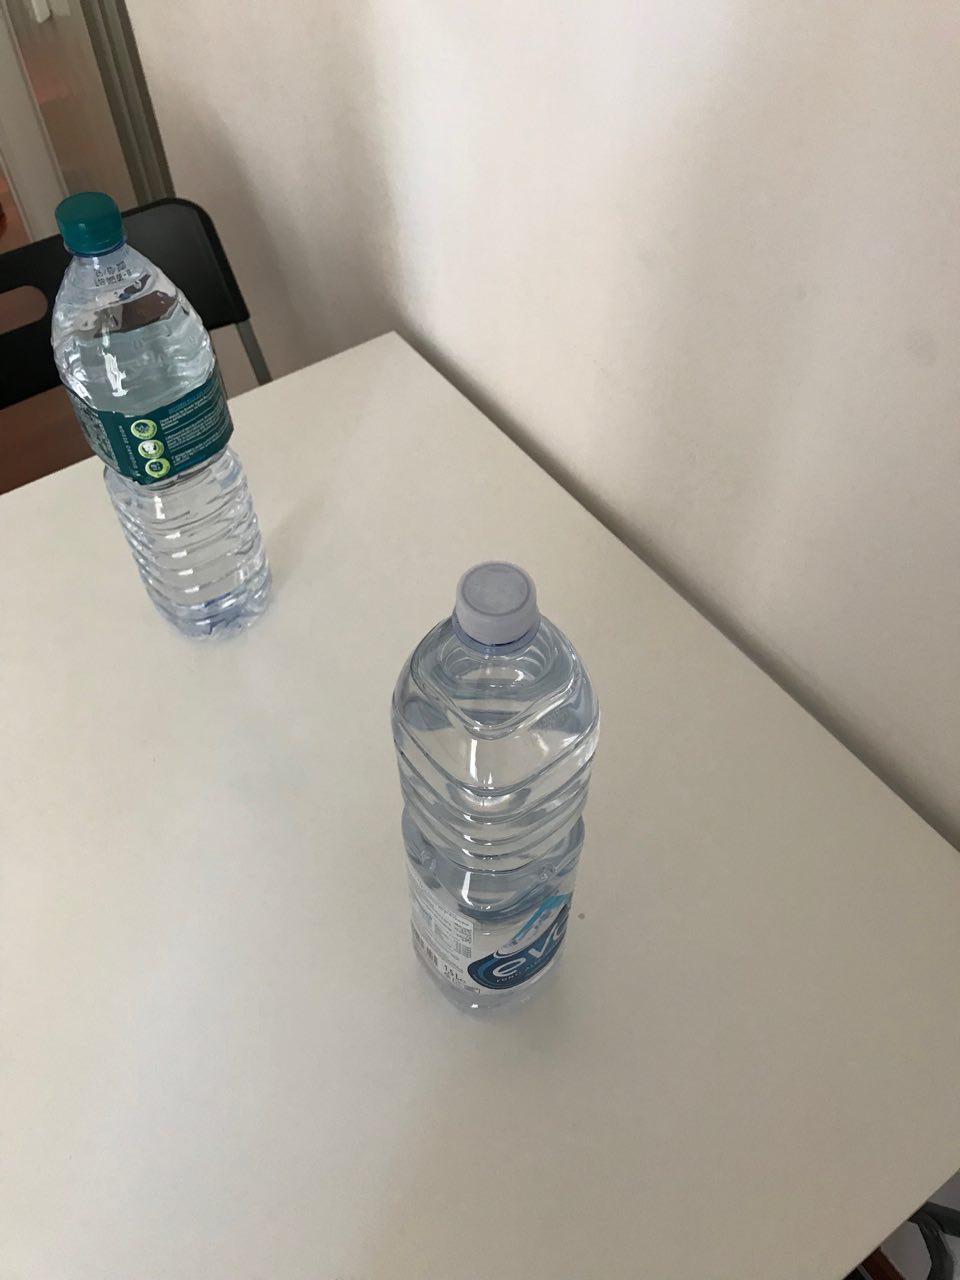san_bernardo: (50, 190, 273, 642)
